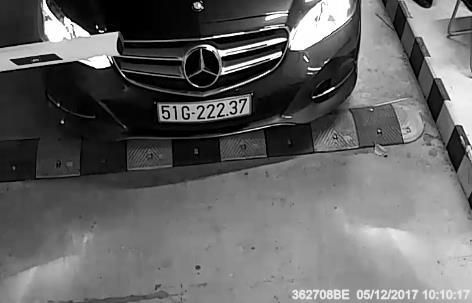License-plate: (147, 94, 265, 128)
